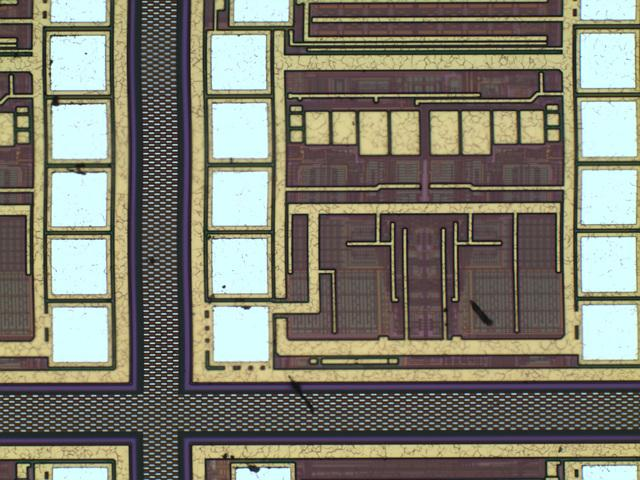PO CONTAMINATION: (43, 55, 499, 479)
